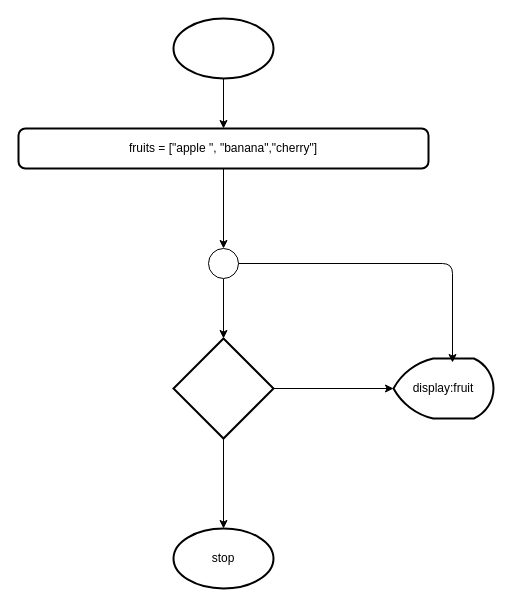
This 511x606 diagram has some shape labels left out. Here are the shapes that lost their labels. From the top down, the box of each, then its label:
(172, 17, 274, 79): start
(172, 337, 274, 439): for fruit in fruits?
